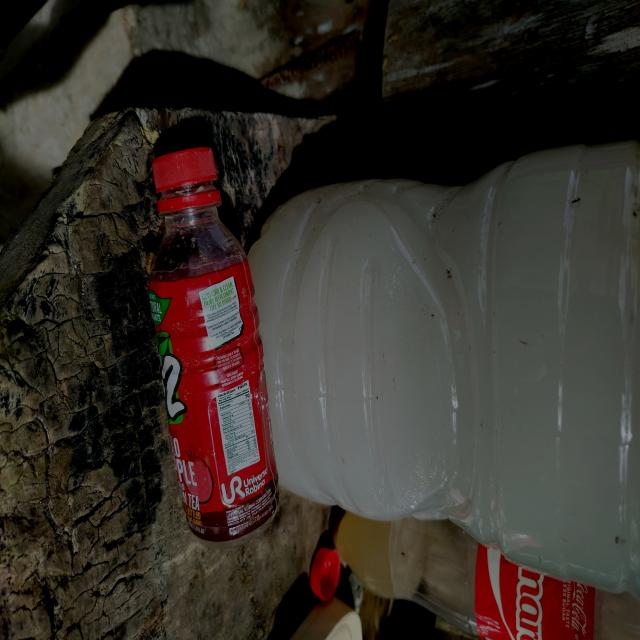plastic: (251, 139, 640, 607), (138, 138, 288, 549), (321, 495, 640, 640)
